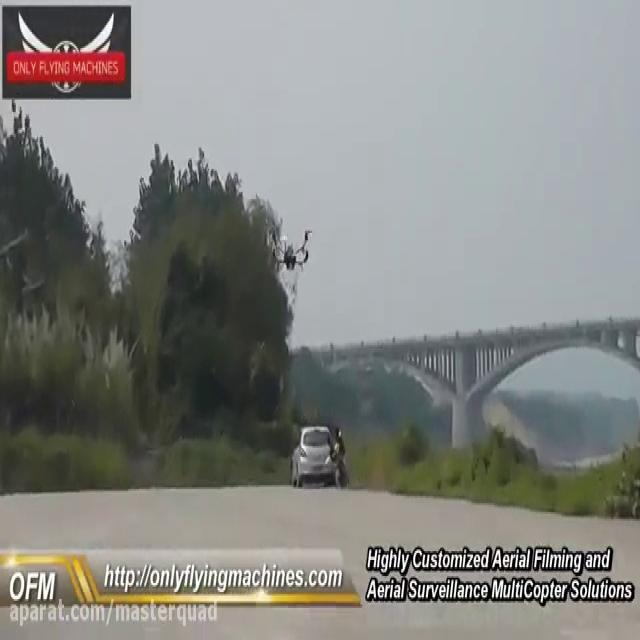drone: (267, 222, 315, 270)
